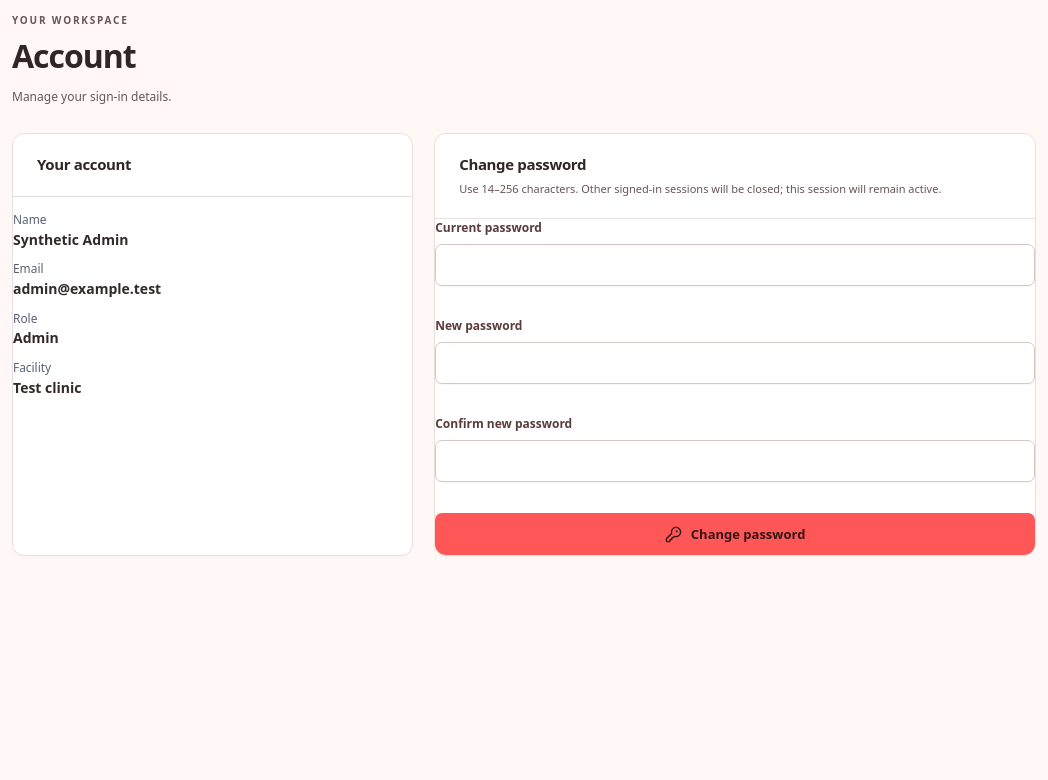
Test: requires matching passwords without transmitting a mismatched form
Type "current-test-password" into the password field labelled "Current password".
click(735, 266); type("current-test-password")  # box [435,244,1035,286]
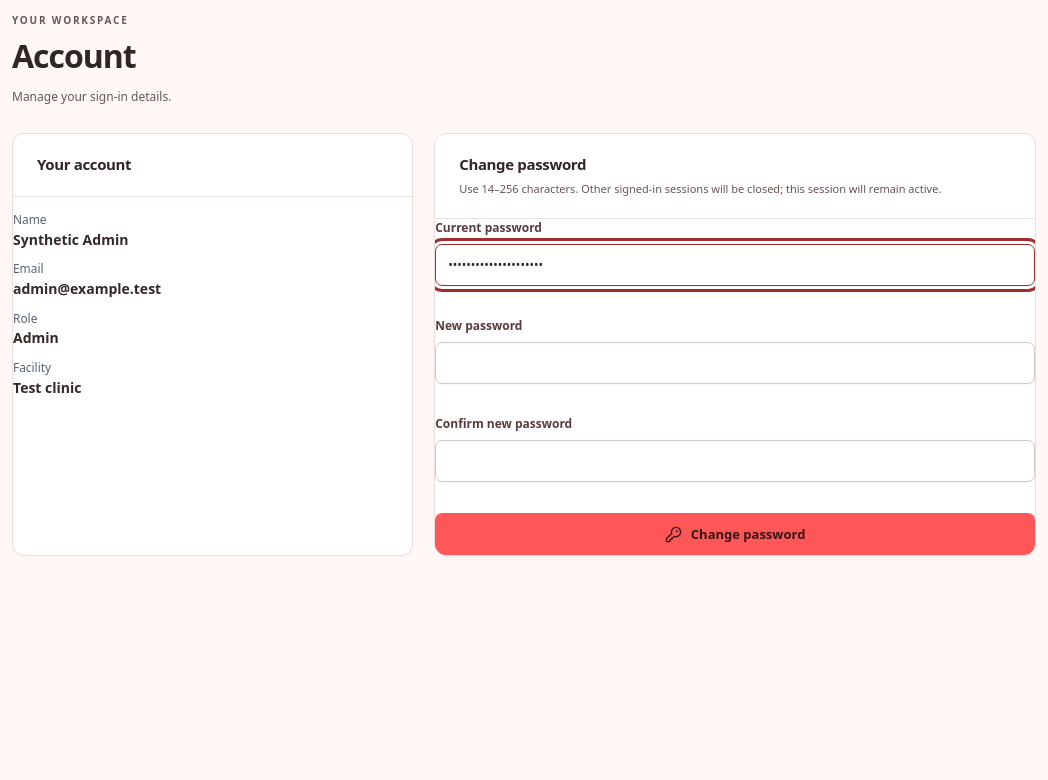
Type "replacement-test-password" into the password field labelled "New password".
click(735, 364); type("replacement-test-password")  # box [435,342,1035,384]
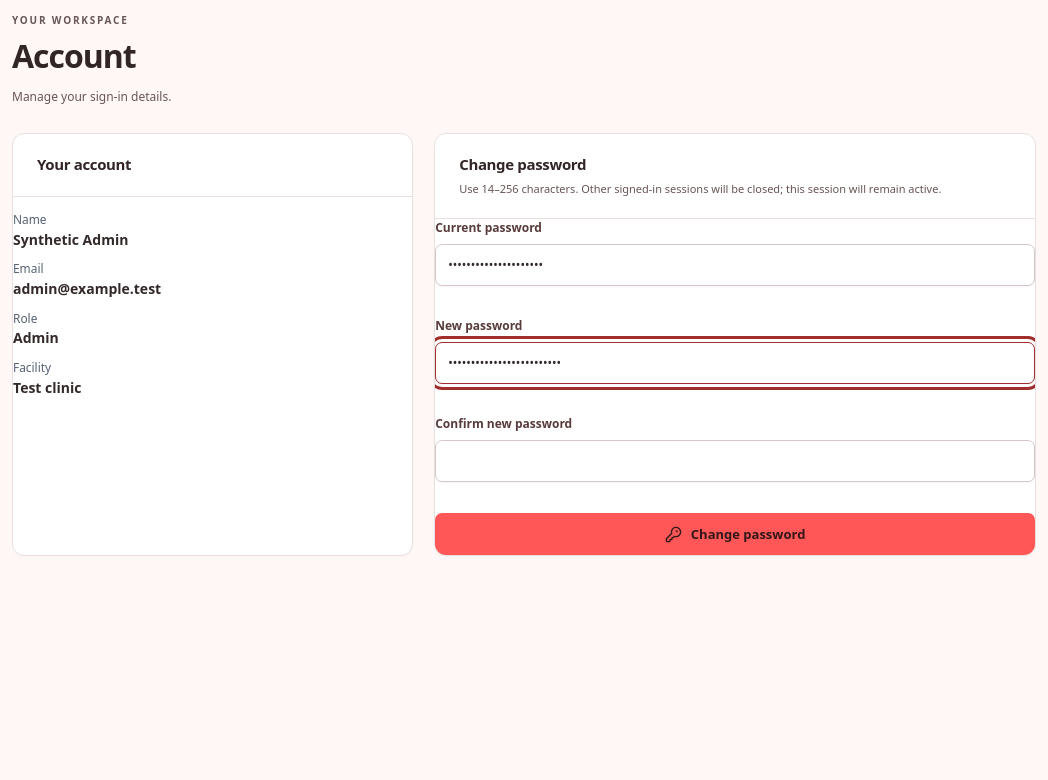
Type "different-test-password" into the password field labelled "Confirm new password".
click(735, 462); type("different-test-password")  # box [435,440,1035,482]
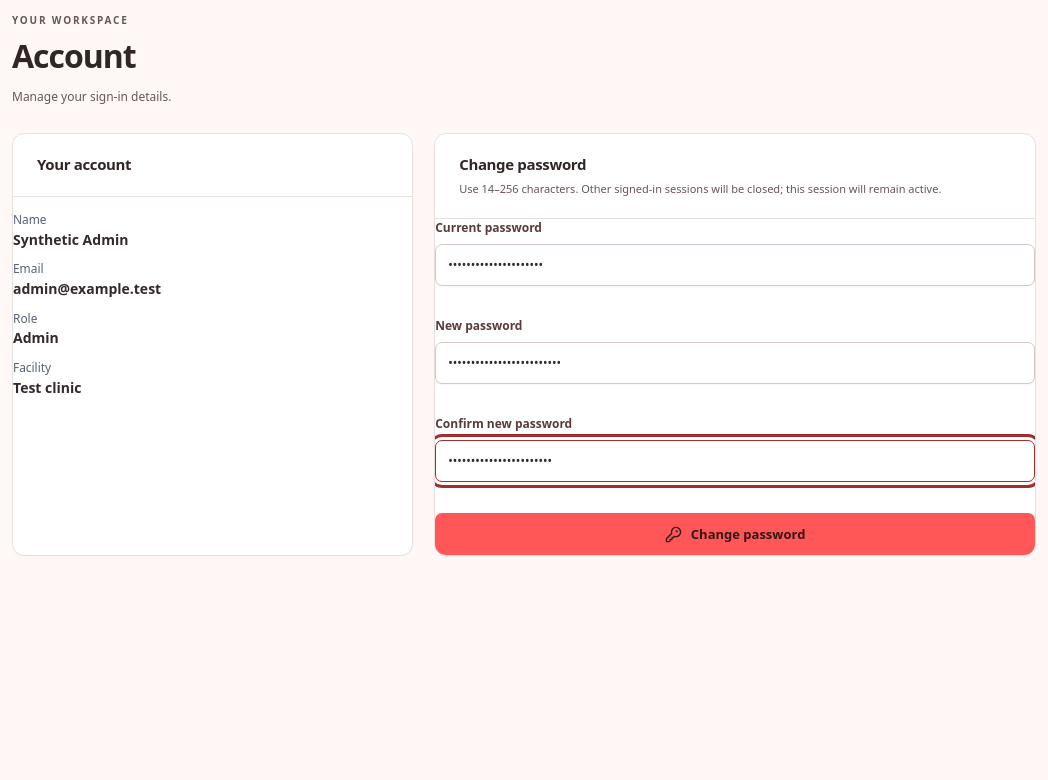
Click the button "Change password".
click(735, 534)  # box [435,514,1035,556]
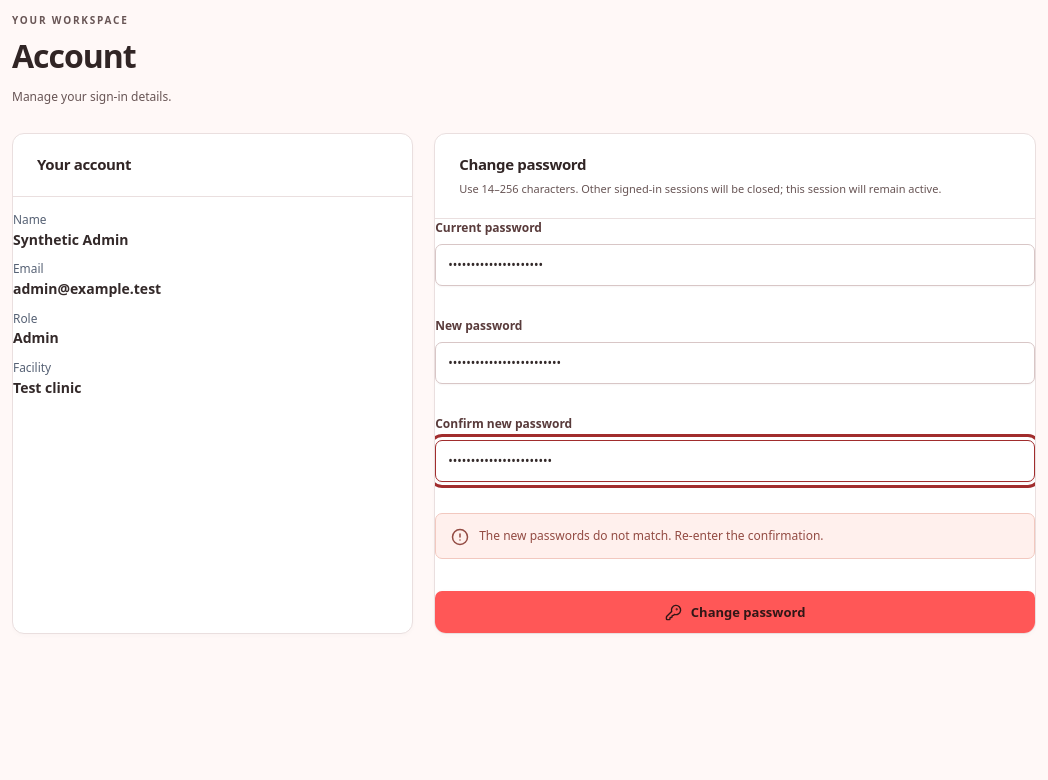
Now the message shows "do not match", box [479,528,824,544]
